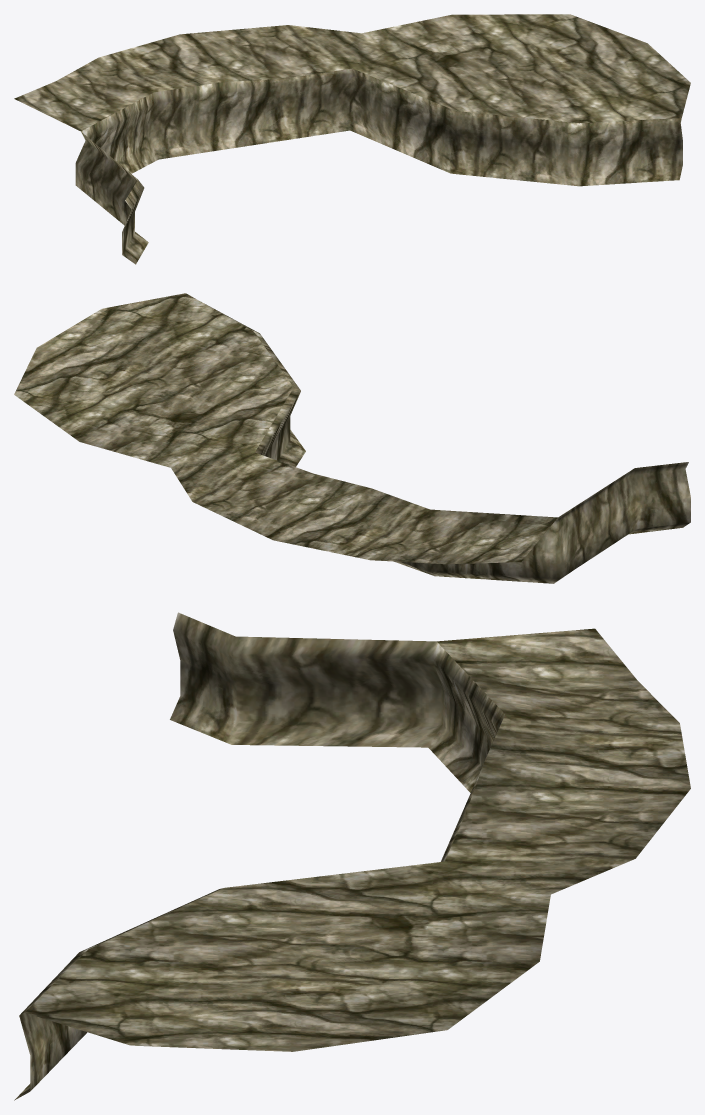
File: CB_NEWPLAYSURFACE_CB_PLAYSURFACE115.fbx
3 views of the same model, one above another, from view 1: azimuth 30°, elevation 25°; view 2: azimuth 150°, elevation 25°; view 3: azimuth 270°, elevation 25° (orthographic). The views are drawn at different scales.
Parts seen in each view (by area): view 1: CB_NEWPLAYSURFACE_CB_PLAYSURFACE115; view 2: CB_NEWPLAYSURFACE_CB_PLAYSURFACE115; view 3: CB_NEWPLAYSURFACE_CB_PLAYSURFACE115.
Part boxes in pixels (x1,y1,x2,y2): CB_NEWPLAYSURFACE_CB_PLAYSURFACE115: [14, 14, 690, 264]; CB_NEWPLAYSURFACE_CB_PLAYSURFACE115: [14, 293, 690, 583]; CB_NEWPLAYSURFACE_CB_PLAYSURFACE115: [14, 612, 690, 1100].
Size of the model in its own units: 270902 by 29558 by 179257.
2 materials, 2 textured.
